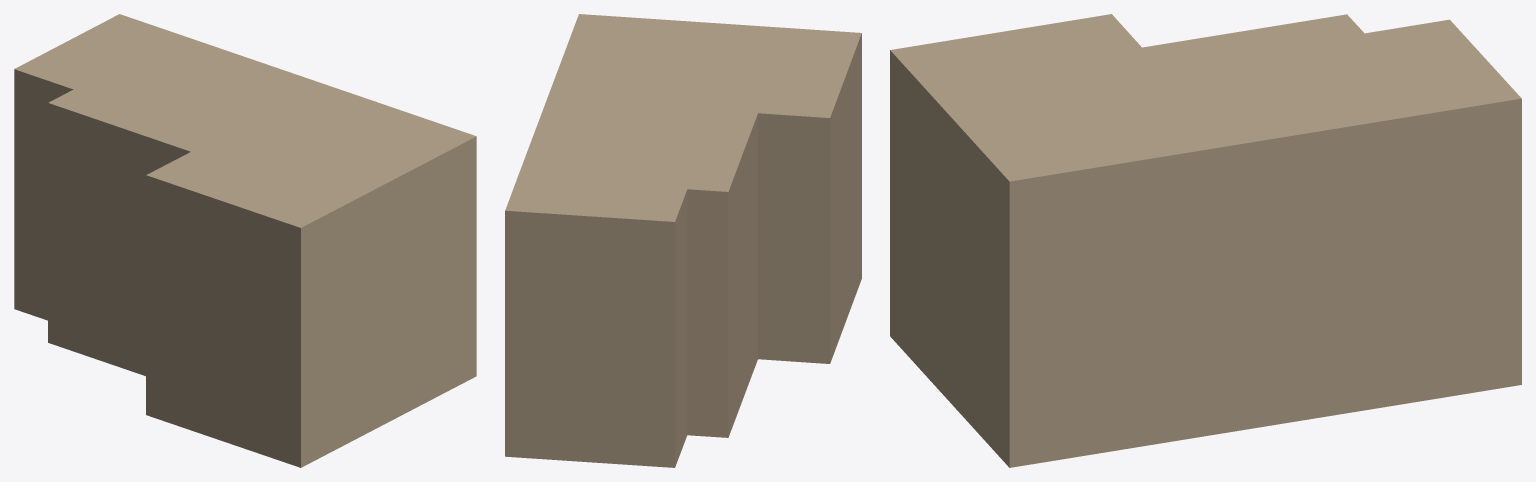
Rendered from bld_106415410.dae.
3 views of the same model, side by side, from view 1: azimuth 30°, elevation 25°; view 2: azimuth 150°, elevation 25°; view 3: azimuth 270°, elevation 25° (orthographic). The views are drawn at different scales.
Visible parts, largest first — view 1: bld_106415410; view 2: bld_106415410; view 3: bld_106415410.
Boxes of the visible parts, x1,y1,x2,y2 form: bld_106415410: (14, 14, 476, 467); bld_106415410: (505, 14, 861, 467); bld_106415410: (890, 14, 1521, 467).
Size of the model in its own units: 10.04 by 15.99 by 8.
